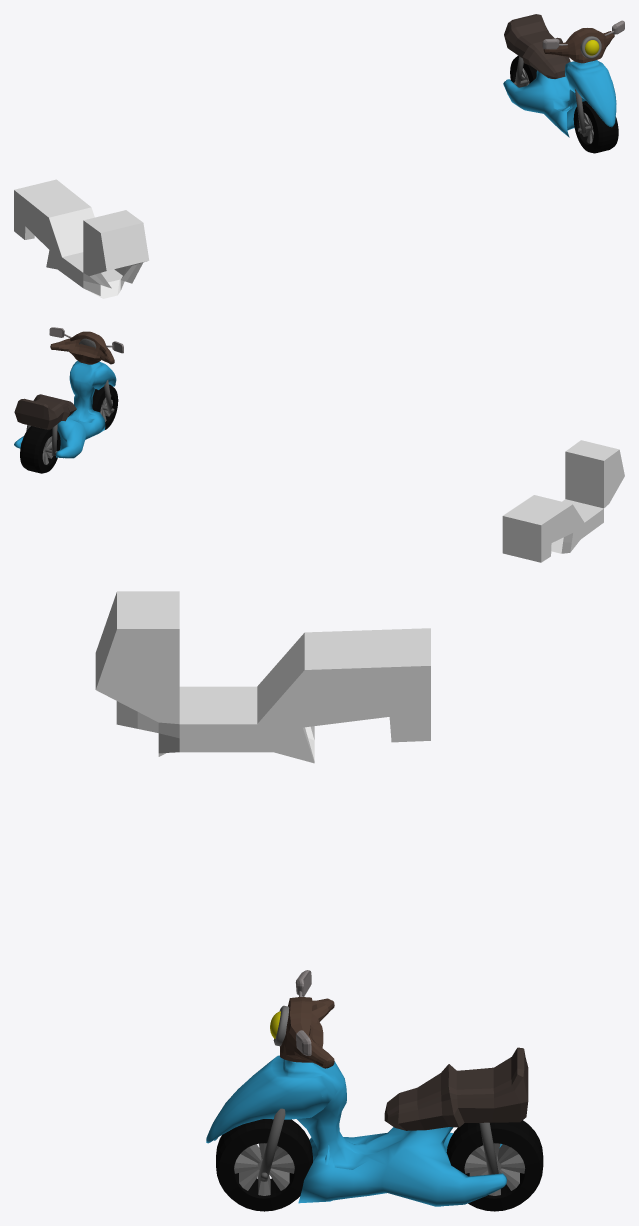
Rendered from motorcycle.fbx.
The picture shows the model from 3 angles, top to bottom: view 1: azimuth 30°, elevation 25°; view 2: azimuth 150°, elevation 25°; view 3: azimuth 270°, elevation 25°; orthographic projection. The views are drawn at different scales.
Visible parts, largest first — view 1: Cube, Plane.001, Plane, Front, Plane.002, Back; view 2: Cube, Plane.001, Plane, Back, Plane.002, Front; view 3: Cube, Plane.001, Plane, Front, Back, Plane.002.
Part boxes in pixels (box(x1,y1,x2,y2)): Cube: box(14, 179, 149, 298); Plane.001: box(503, 60, 616, 137); Plane: box(504, 14, 570, 78); Front: box(573, 101, 618, 153); Plane.002: box(543, 28, 614, 63); Back: box(510, 55, 536, 87); Cube: box(502, 440, 624, 562); Plane.001: box(14, 361, 116, 458); Plane: box(14, 394, 76, 429); Back: box(20, 426, 60, 473); Plane.002: box(50, 331, 114, 364); Front: box(92, 384, 118, 429); Cube: box(95, 591, 430, 763); Plane.001: box(206, 1055, 506, 1206); Plane: box(384, 1047, 528, 1130); Front: box(216, 1119, 312, 1211); Back: box(446, 1120, 543, 1211); Plane.002: box(280, 997, 334, 1068).
Bounding box in the file's own units: 1432 × 268 × 532.
